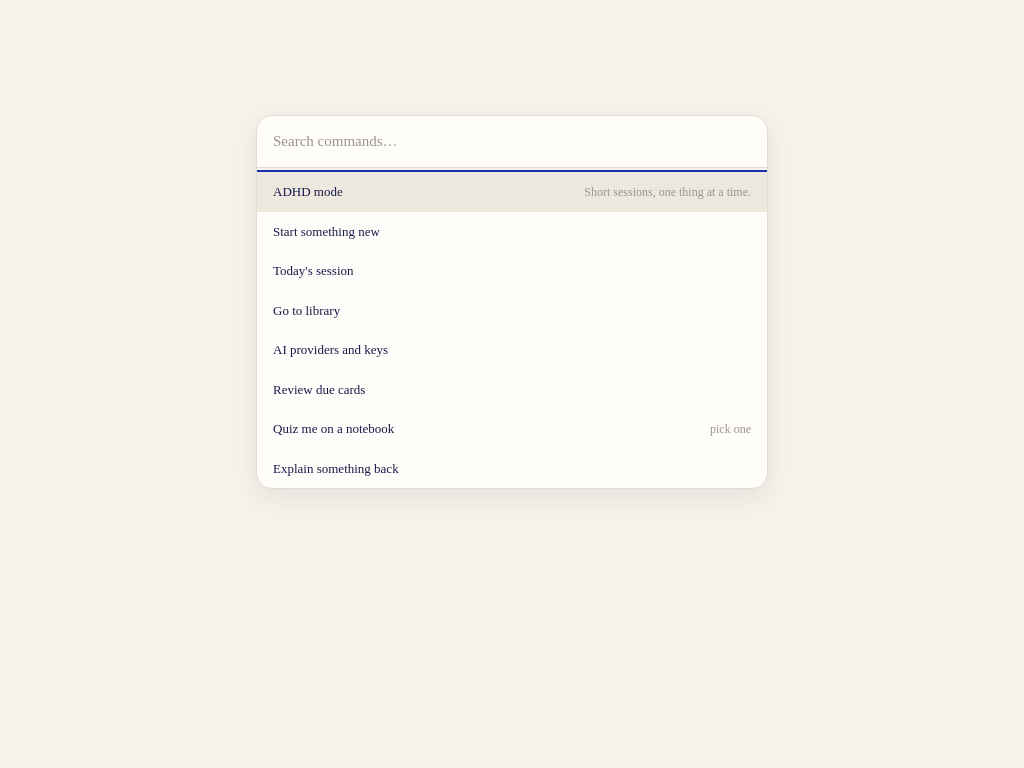
CommandPalette › lists Home once, not as "today" and again as "session"
Step 1. Type "today" into the field → x=512, y=142, box [257,116,767,168]
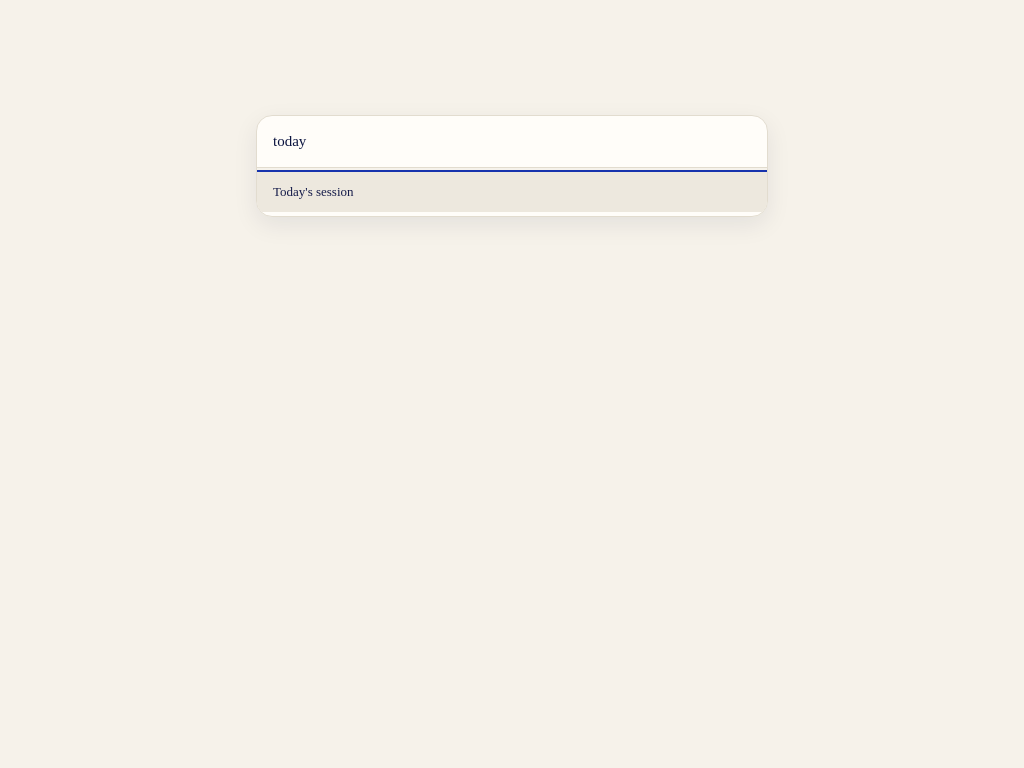
Expected: the number of buttons is 1, [257,172,767,212]
